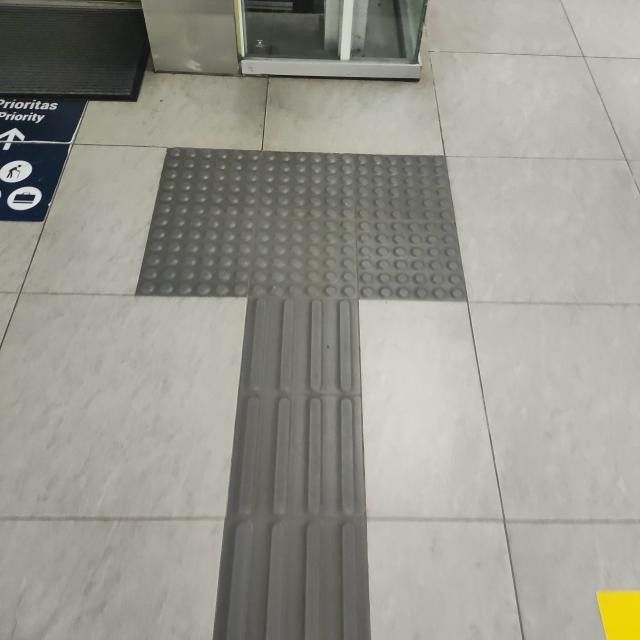lurus: (234, 295, 351, 640)
